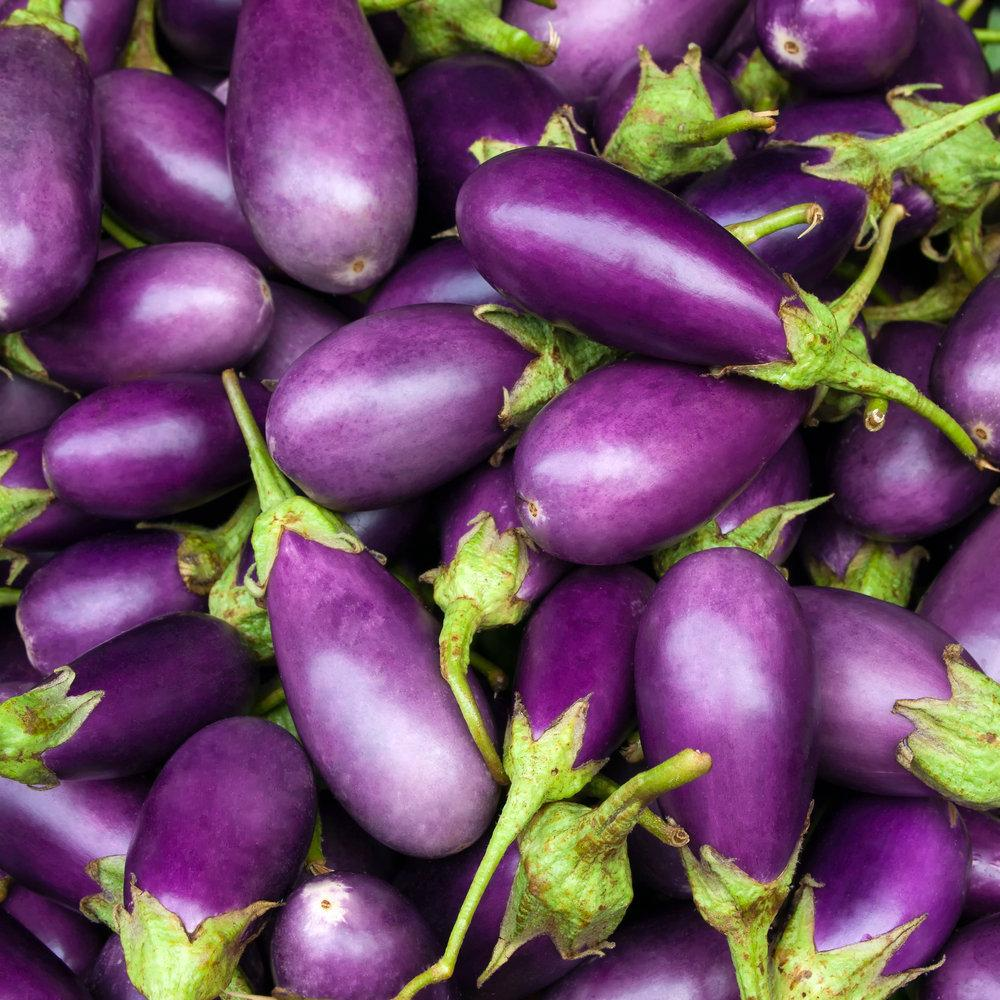eggplant: (0, 0, 999, 999)
